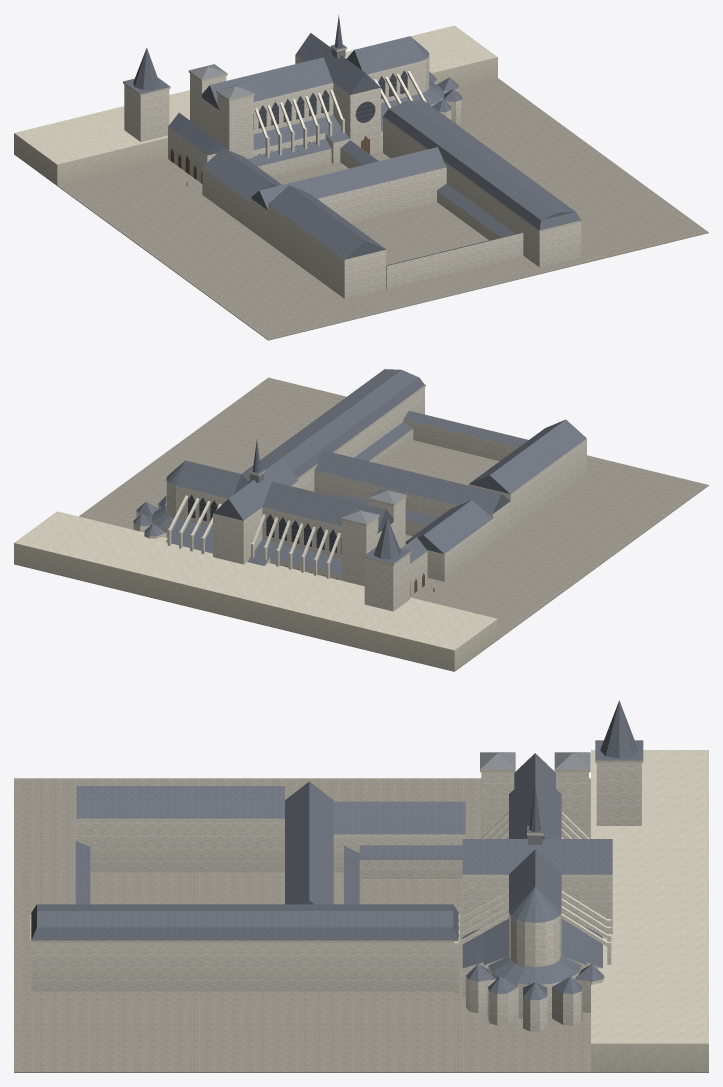
File: marmoutier_1785.glb
The picture shows the model from 3 angles, top to bottom: view 1: azimuth 30°, elevation 25°; view 2: azimuth 150°, elevation 25°; view 3: azimuth 270°, elevation 25°; orthographic projection. The views are drawn at different scales.
Visible parts, largest first — view 1: marmoutier_1785; view 2: marmoutier_1785; view 3: marmoutier_1785.
Boxes of the visible parts, box(x1,y1,x2,y2) form: marmoutier_1785: box(14, 15, 708, 340); marmoutier_1785: box(14, 369, 708, 671); marmoutier_1785: box(14, 700, 708, 1072).
Size of the model in its own units: 200 by 53.3 by 200.
Materials: 9 (8 with a texture image).
